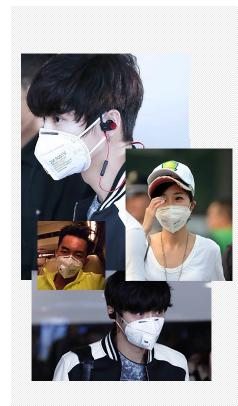OK: (37, 100, 93, 182), (121, 298, 166, 352), (155, 190, 190, 234), (58, 245, 88, 279)
